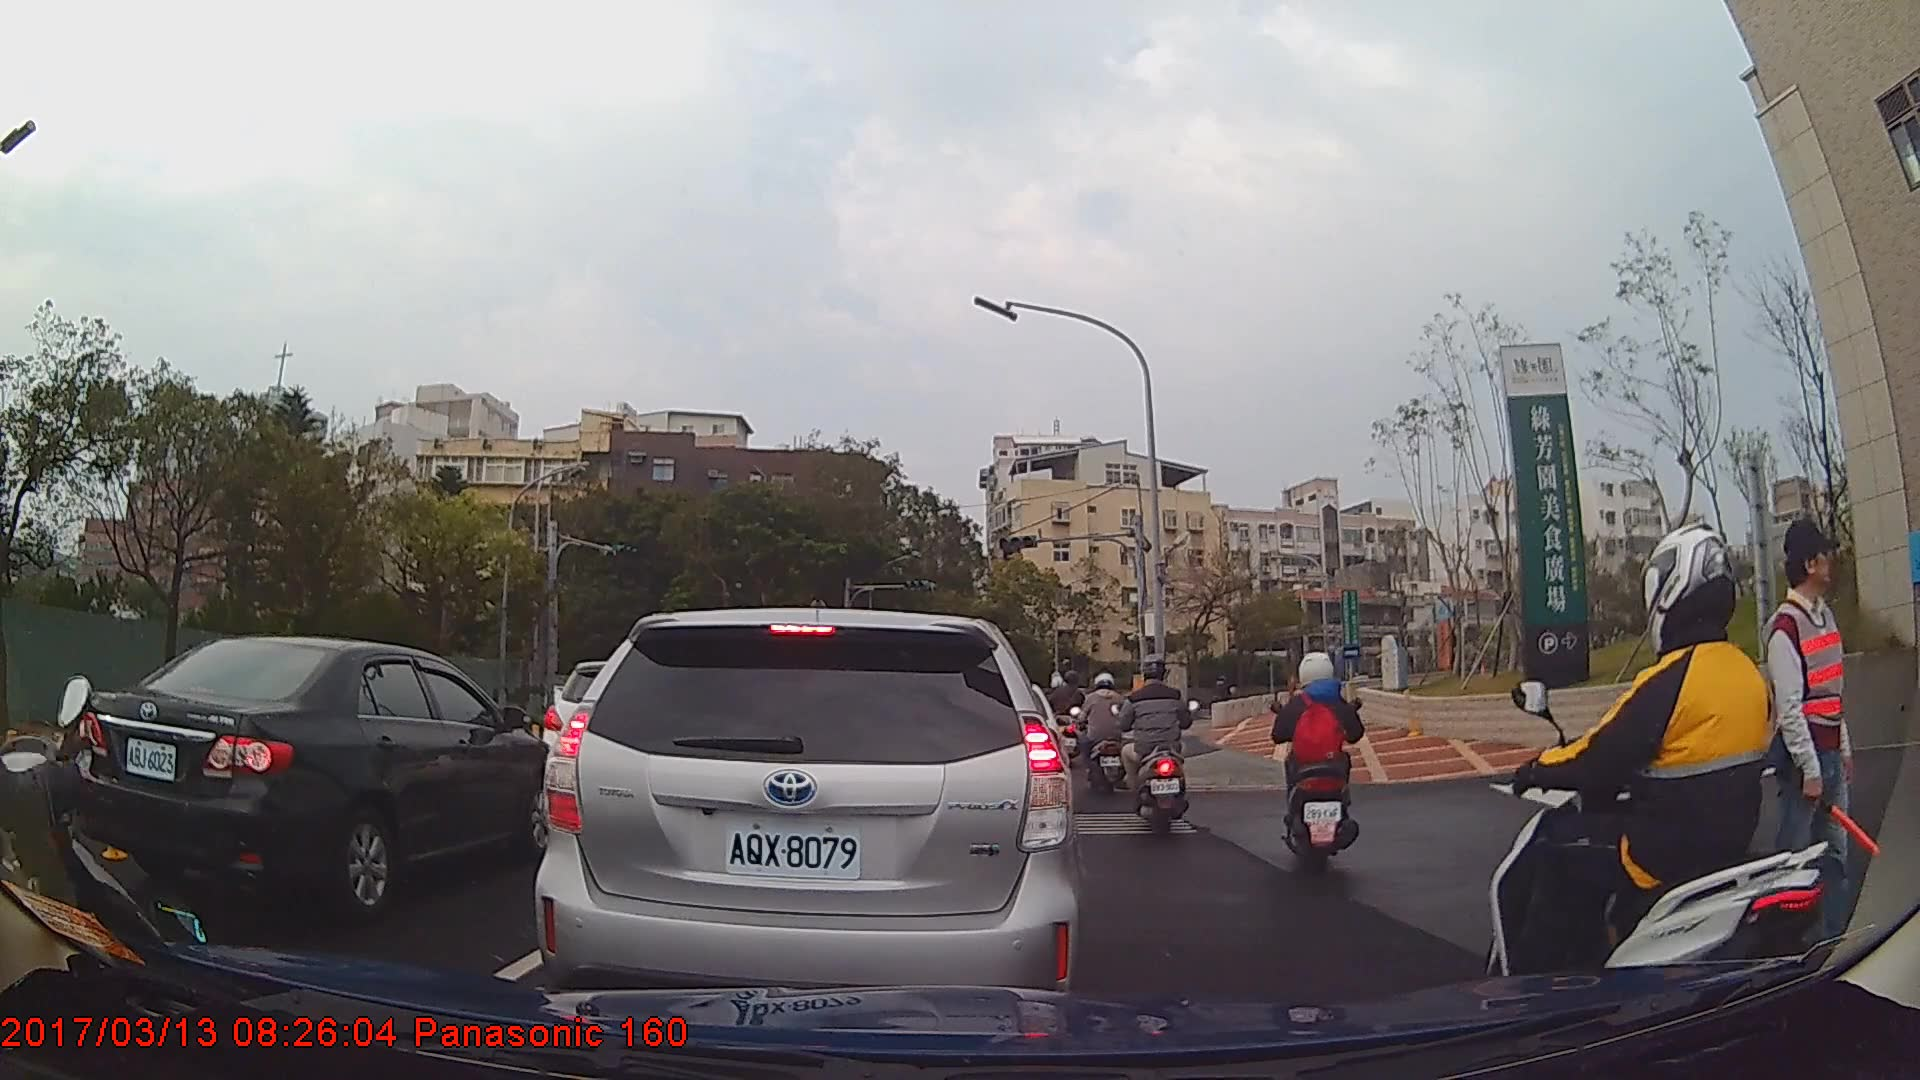pedestrian: (1749, 518, 1882, 971)
rider: (1490, 519, 1850, 1049), (1273, 647, 1368, 865), (1120, 648, 1200, 839), (1082, 670, 1137, 794), (1052, 665, 1088, 768)
vehicle: (537, 603, 1087, 1020), (84, 634, 568, 922)
